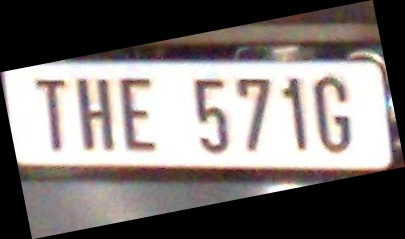character: (313, 75, 351, 152), (75, 76, 114, 151), (118, 75, 156, 151), (194, 76, 229, 153), (34, 76, 67, 149), (237, 77, 270, 150), (280, 76, 308, 151)
